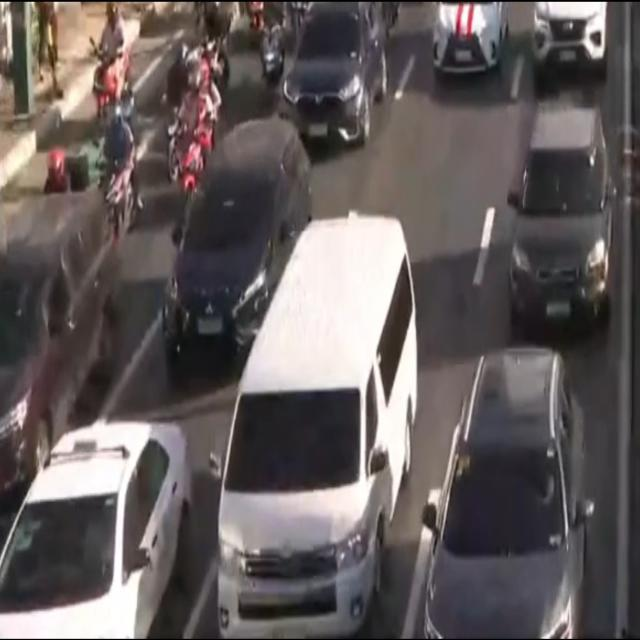Motorcycle: (169, 64, 217, 219), (99, 92, 143, 241), (192, 0, 244, 107), (88, 1, 130, 129), (260, 0, 284, 90)
SUV: (426, 352, 590, 640), (0, 194, 122, 502), (508, 104, 610, 326), (532, 0, 608, 70)
Sedan: (0, 419, 197, 640), (166, 120, 314, 378), (280, 2, 390, 152), (427, 0, 506, 76)
Van: (216, 216, 416, 640)
